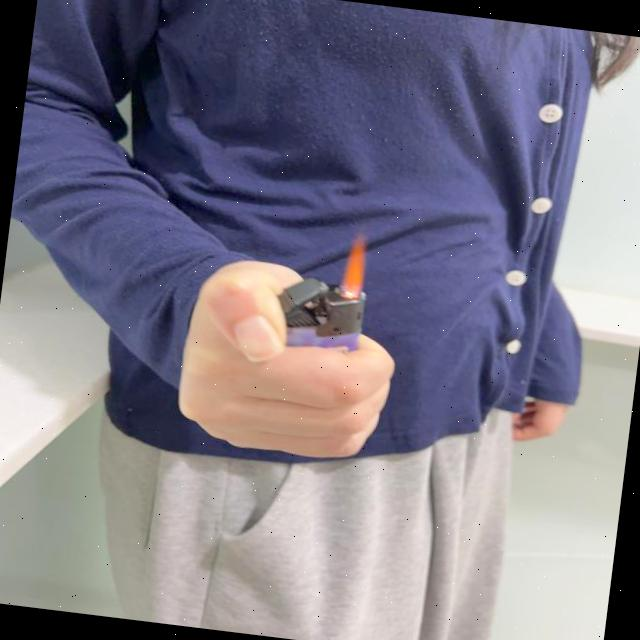fire: (337, 229, 370, 301)
